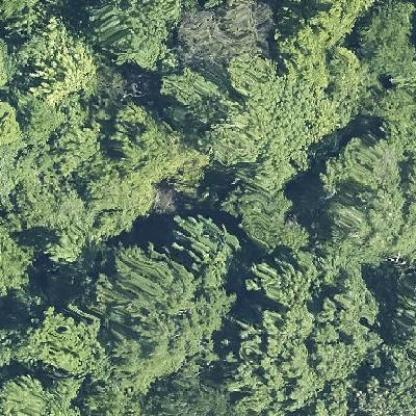tree-top: (315, 137, 415, 260), (16, 15, 104, 103), (17, 306, 104, 380), (172, 1, 280, 57), (354, 3, 415, 77), (0, 369, 85, 415), (143, 376, 229, 415)
